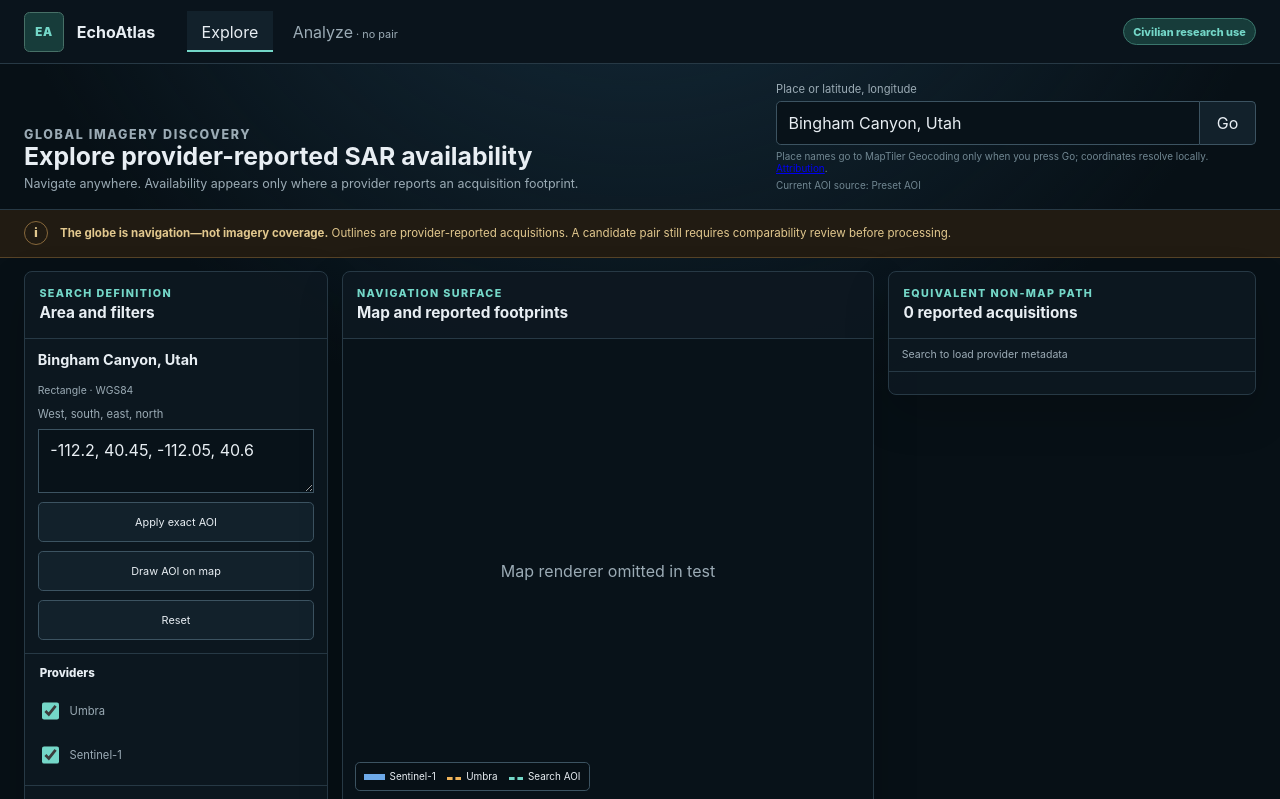
it: Explore › offers a pointer AOI mode with an Escape exit and exact-coordinate fallback
Click the button "Draw AOI on map" at [176, 571], box [38,551,314,591]
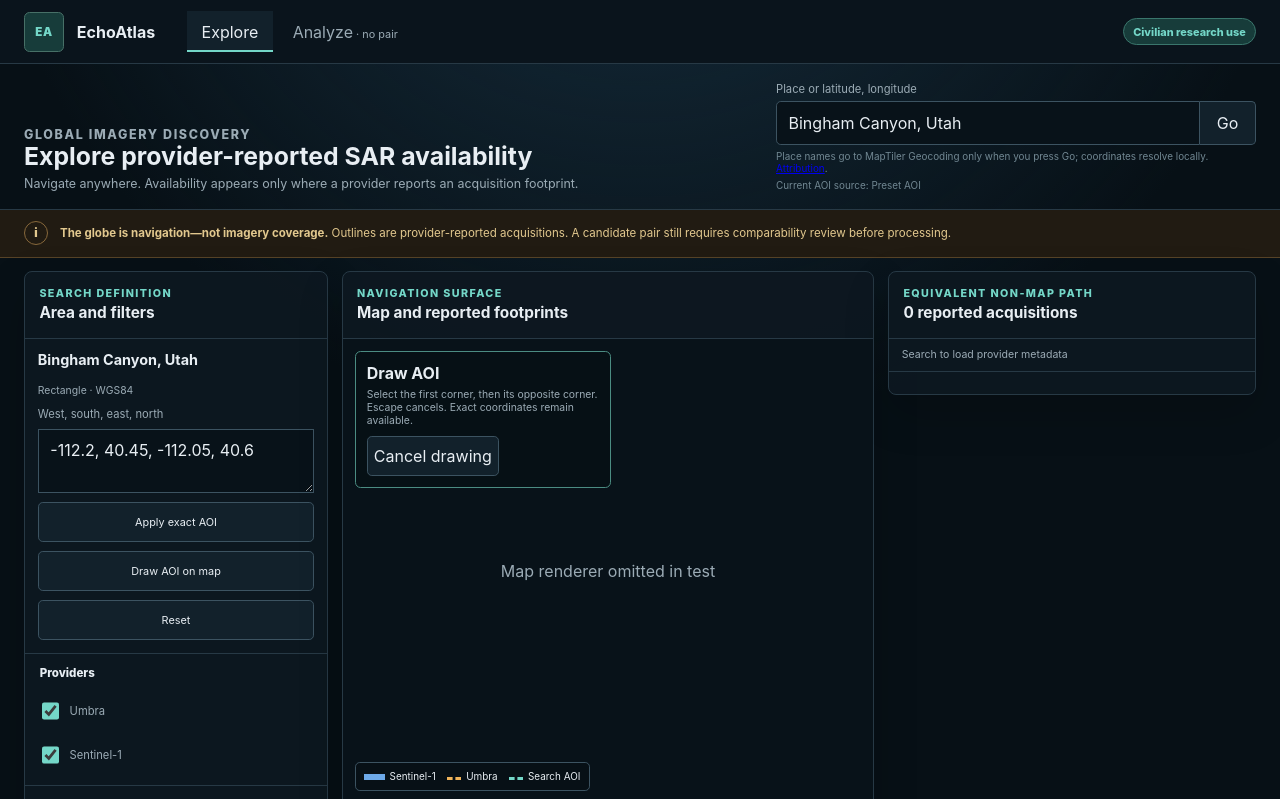
Expected: the text box labelled "West, south, east, north" is shown, [38,429,314,493]
Result: the message shows "Select the first corner" at [367,388,598,400]
Press Escape
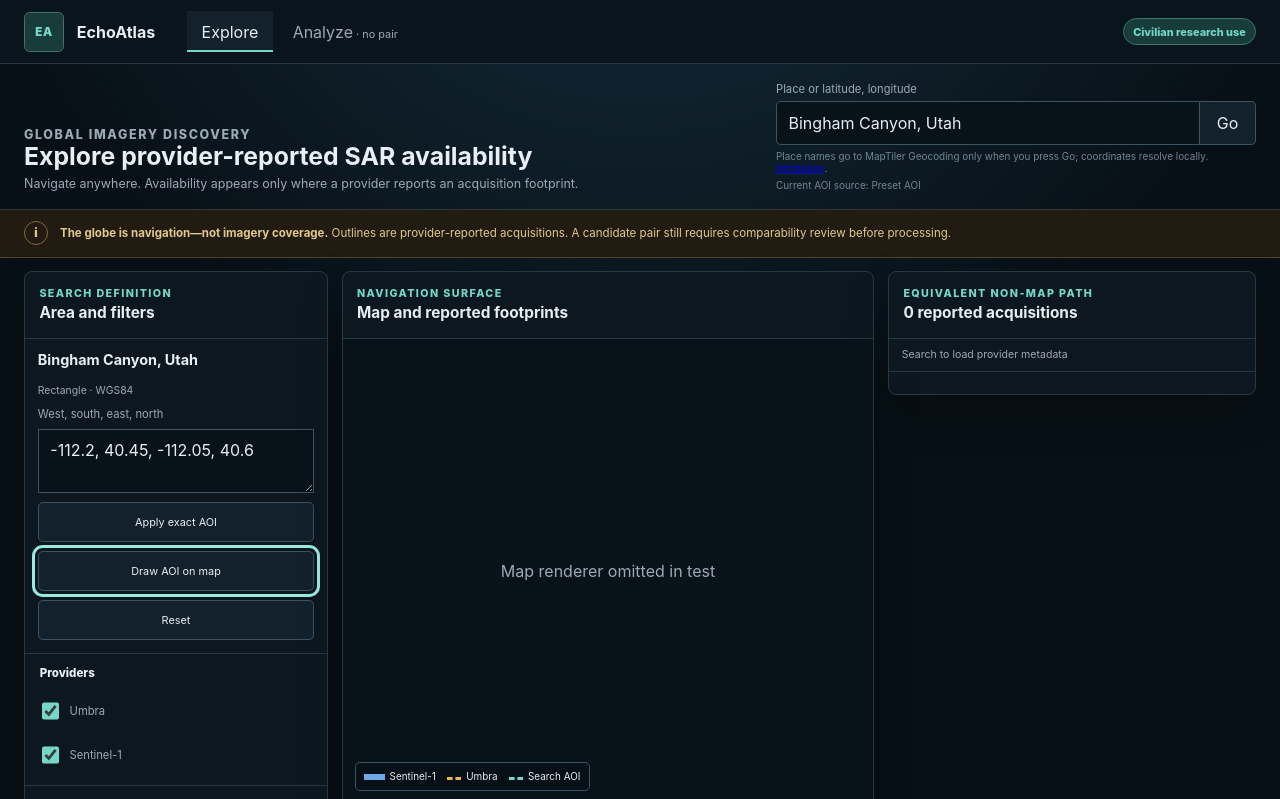
Result: the text "Select the first corner" is gone
